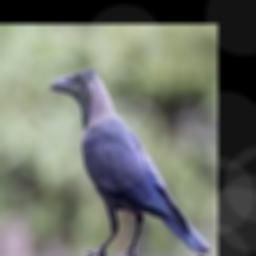Crow: (51, 68, 212, 256)
